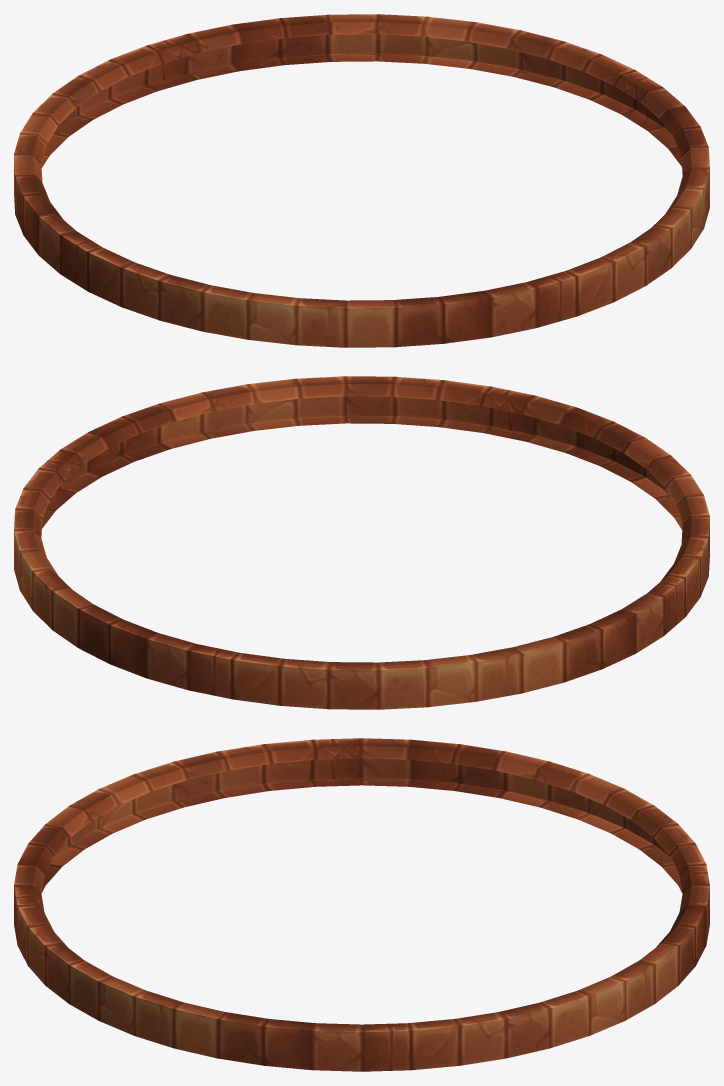
3 views of the same model, one above another, from view 1: azimuth 30°, elevation 25°; view 2: azimuth 150°, elevation 25°; view 3: azimuth 270°, elevation 25° (orthographic).
Visible parts, largest first — view 1: Cylinder_1; view 2: Cylinder_1; view 3: Cylinder_1.
Boxes of the visible parts, left/top/right/bottom form: Cylinder_1: left=14, top=14, right=709, bottom=347; Cylinder_1: left=14, top=376, right=709, bottom=709; Cylinder_1: left=14, top=738, right=709, bottom=1071.
Bounding box in the file's own units: 3200 × 200 × 3200.
